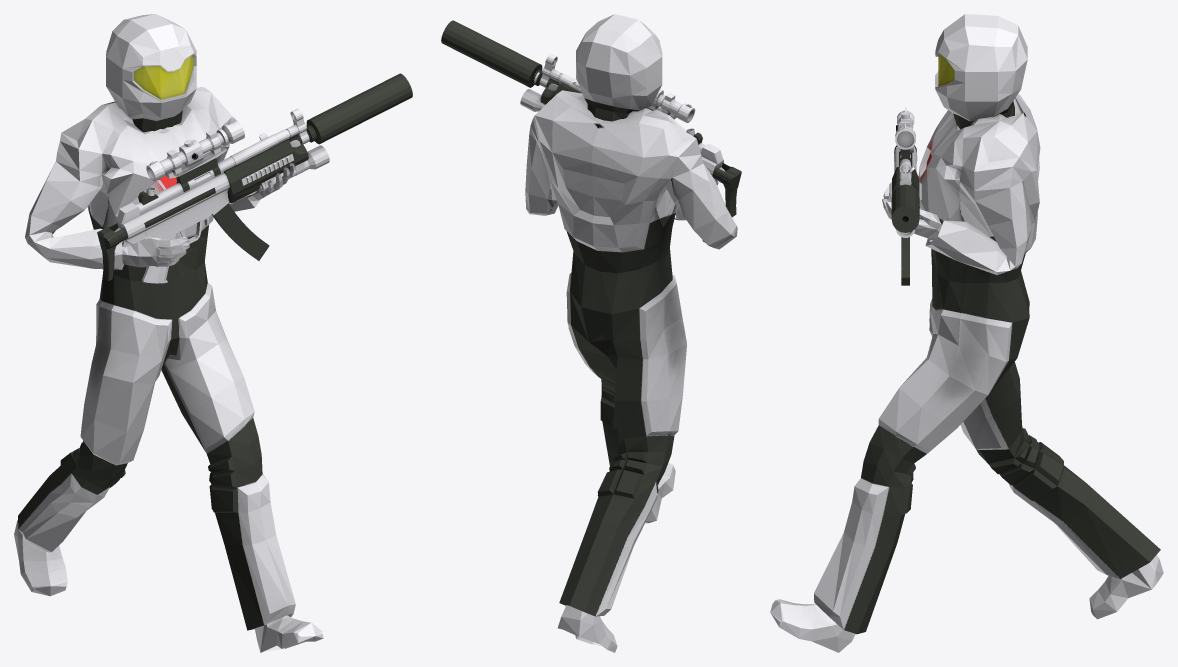
The model's file is walk13.obj.
The picture shows the model from 3 angles, left to right: view 1: azimuth 30°, elevation 25°; view 2: azimuth 150°, elevation 25°; view 3: azimuth 270°, elevation 25°; orthographic projection. The views are drawn at different scales.
Parts seen in each view (by area): view 1: Male001Skin_001, Object001; view 2: Male001Skin_001, Object001; view 3: Male001Skin_001, Object001.
Boxes of the visible parts, left/top/right/bottom form: Male001Skin_001: left=14, top=14, right=323, bottom=652; Object001: left=97, top=73, right=412, bottom=283; Male001Skin_001: left=525, top=14, right=737, bottom=652; Object001: left=441, top=20, right=741, bottom=220; Male001Skin_001: left=770, top=14, right=1163, bottom=652; Object001: left=889, top=107, right=921, bottom=285.
Bounding box in the file's own units: 1111 × 1876 × 1089.
1 material, 1 textured.
